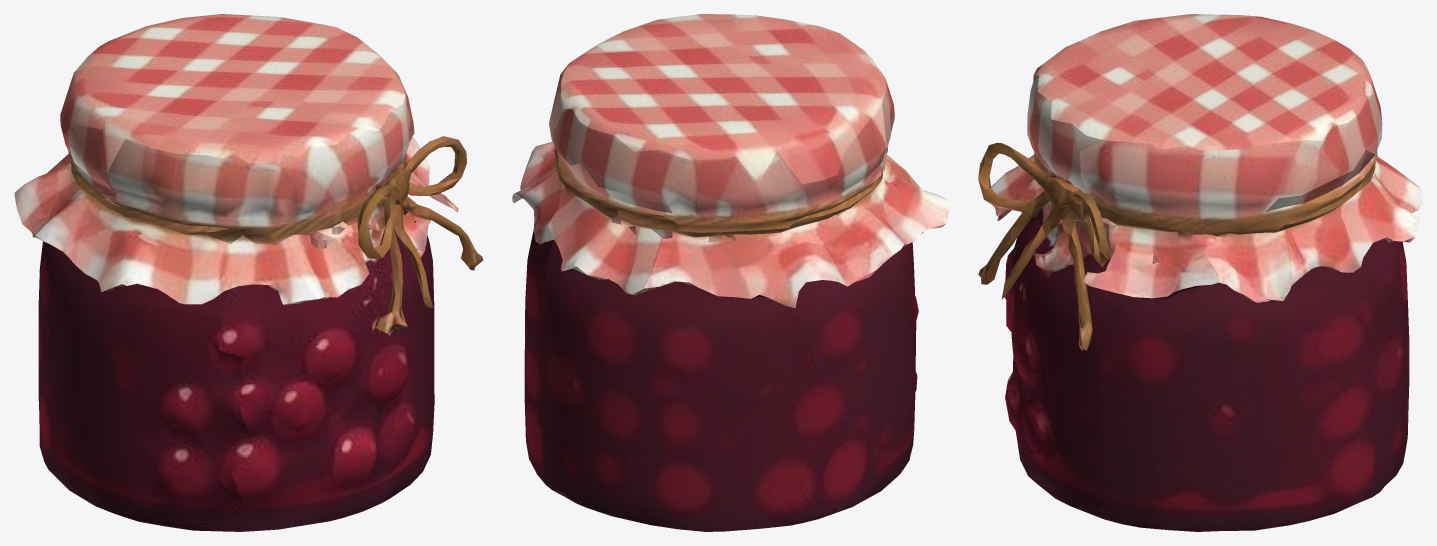
Rendered from berry_jam.glb.
3 renders of one model, left to right at view 1: azimuth 30°, elevation 25°; view 2: azimuth 150°, elevation 25°; view 3: azimuth 270°, elevation 25°, orthographic.
Visible parts, largest first — view 1: item_berry_jam; view 2: item_berry_jam; view 3: item_berry_jam.
Part boxes in pixels (x1,y1,x2,y2): item_berry_jam: (14,14,483,531); item_berry_jam: (512,14,949,531); item_berry_jam: (978,14,1422,531).
Bounding box in the file's own units: 0.9744 × 0.9306 × 1.
1 material, 1 textured.
